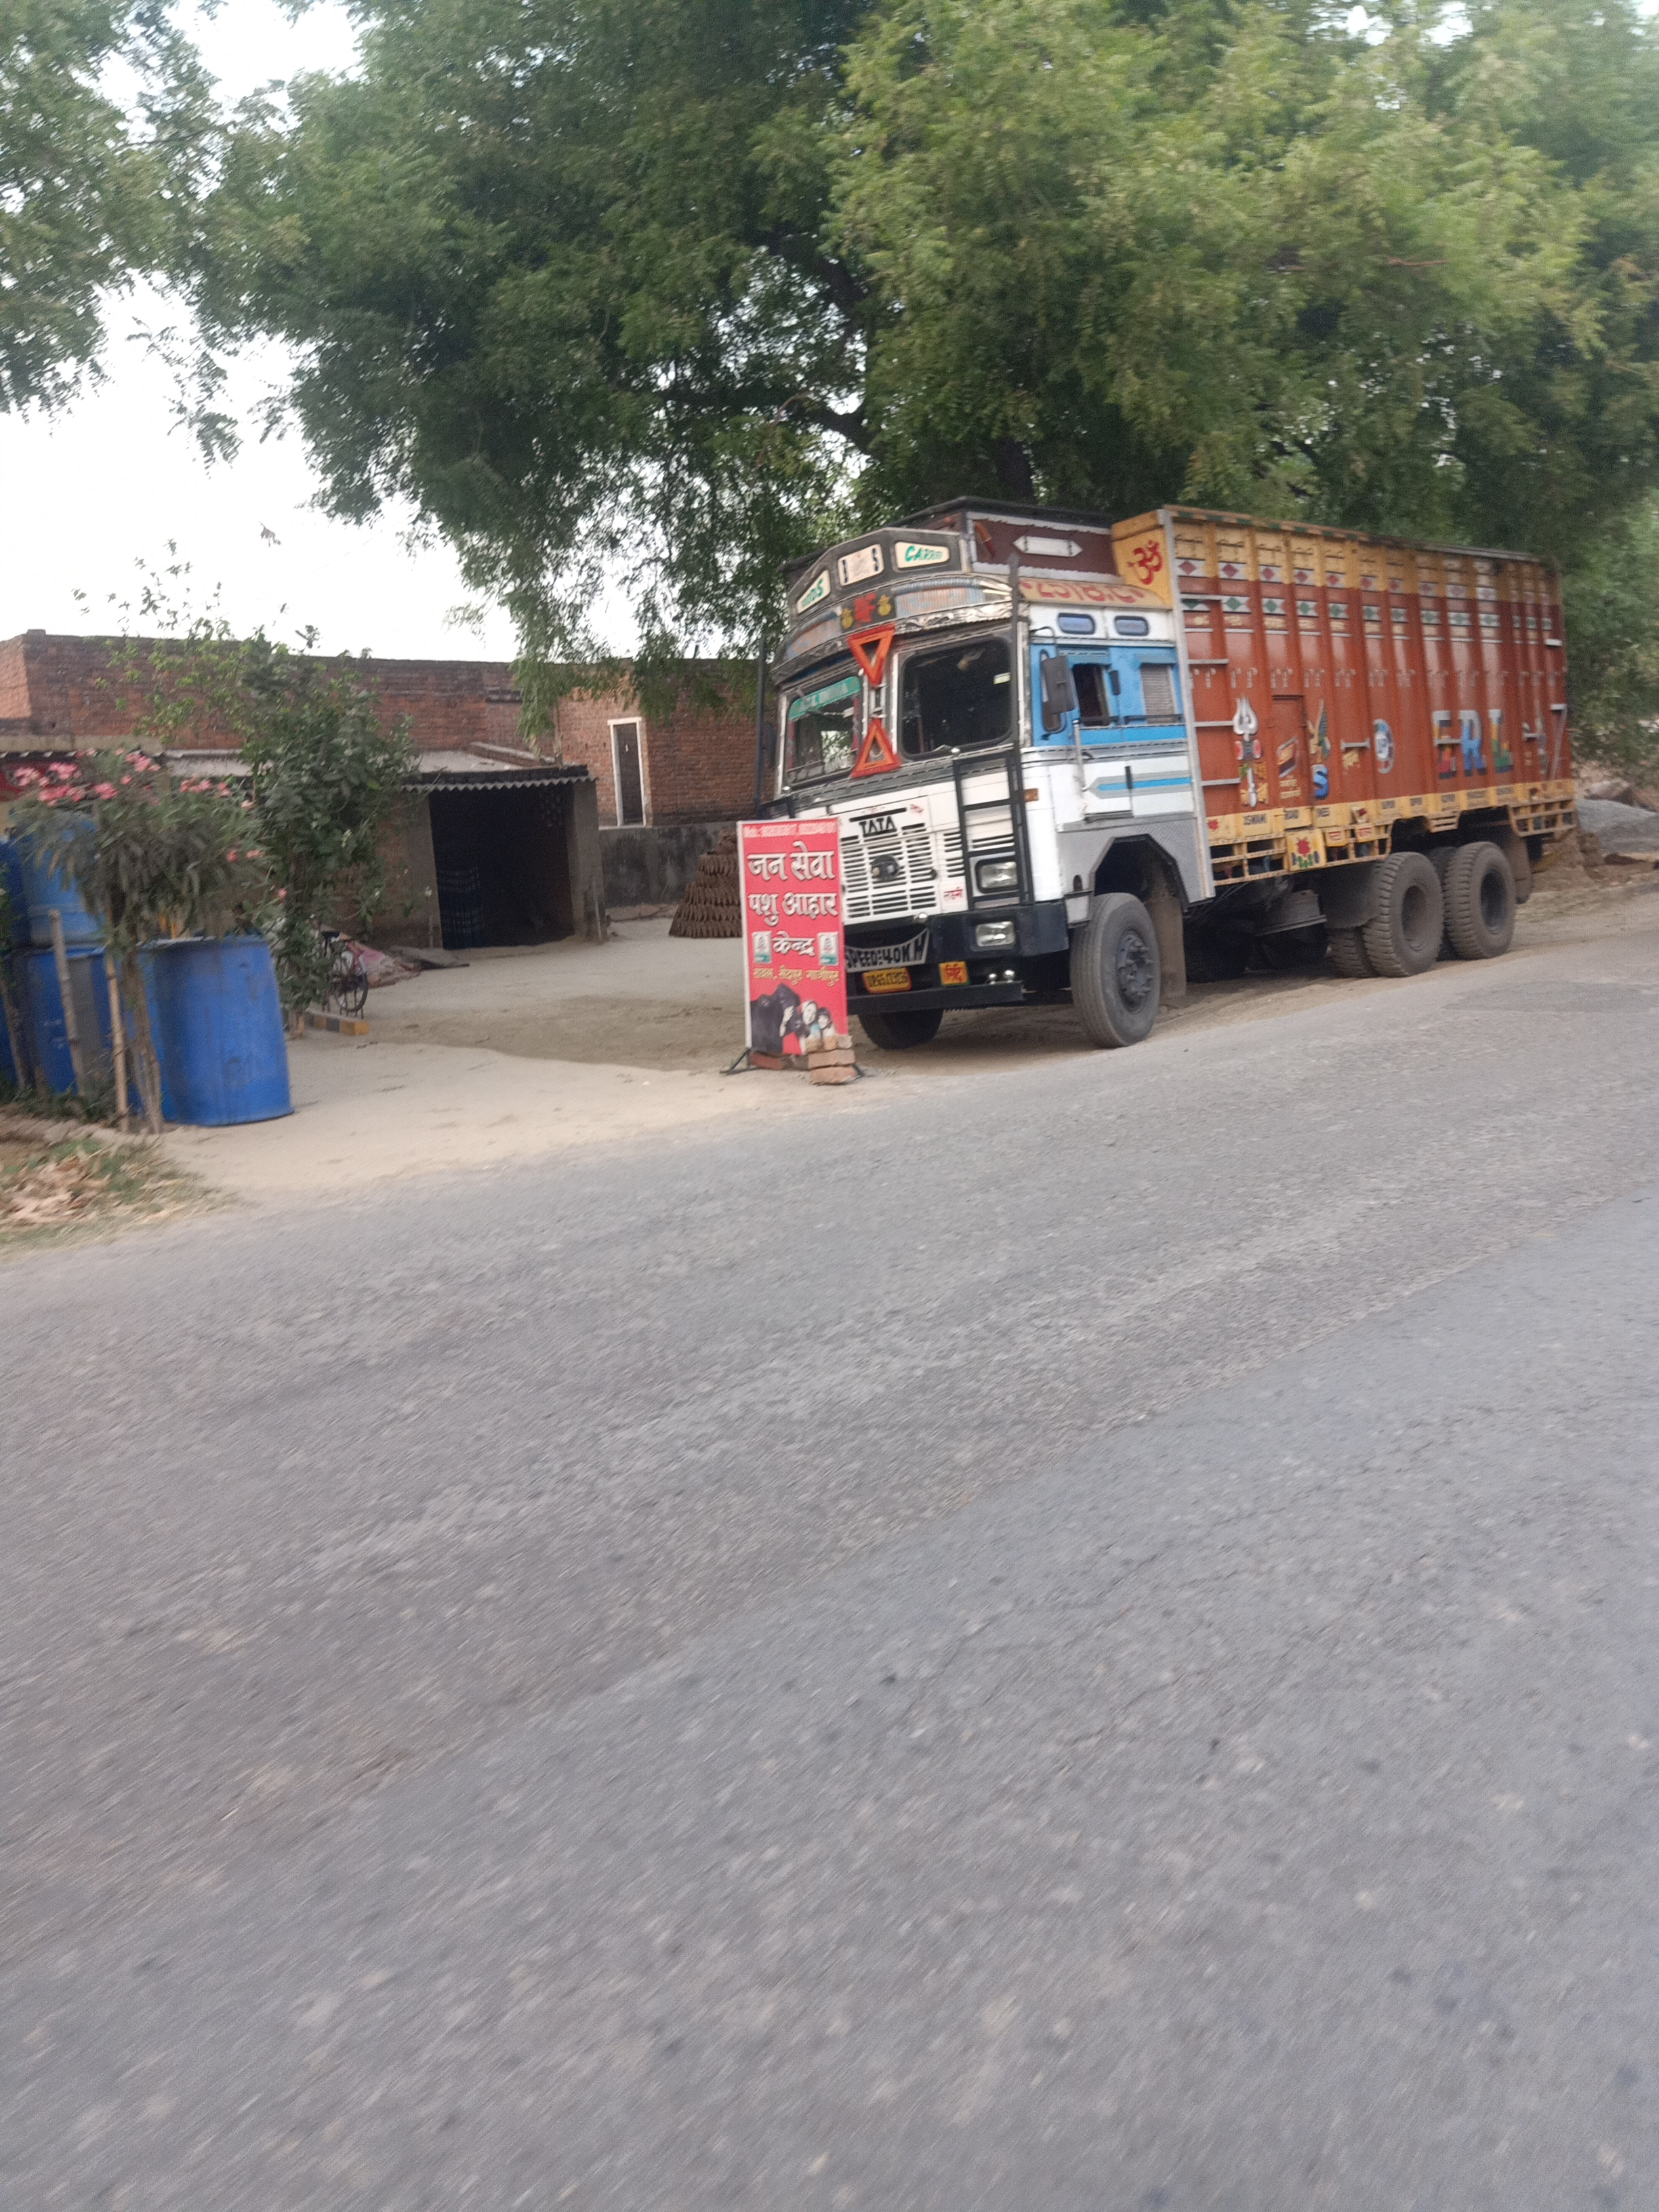truck: (753, 489, 1582, 1050)
